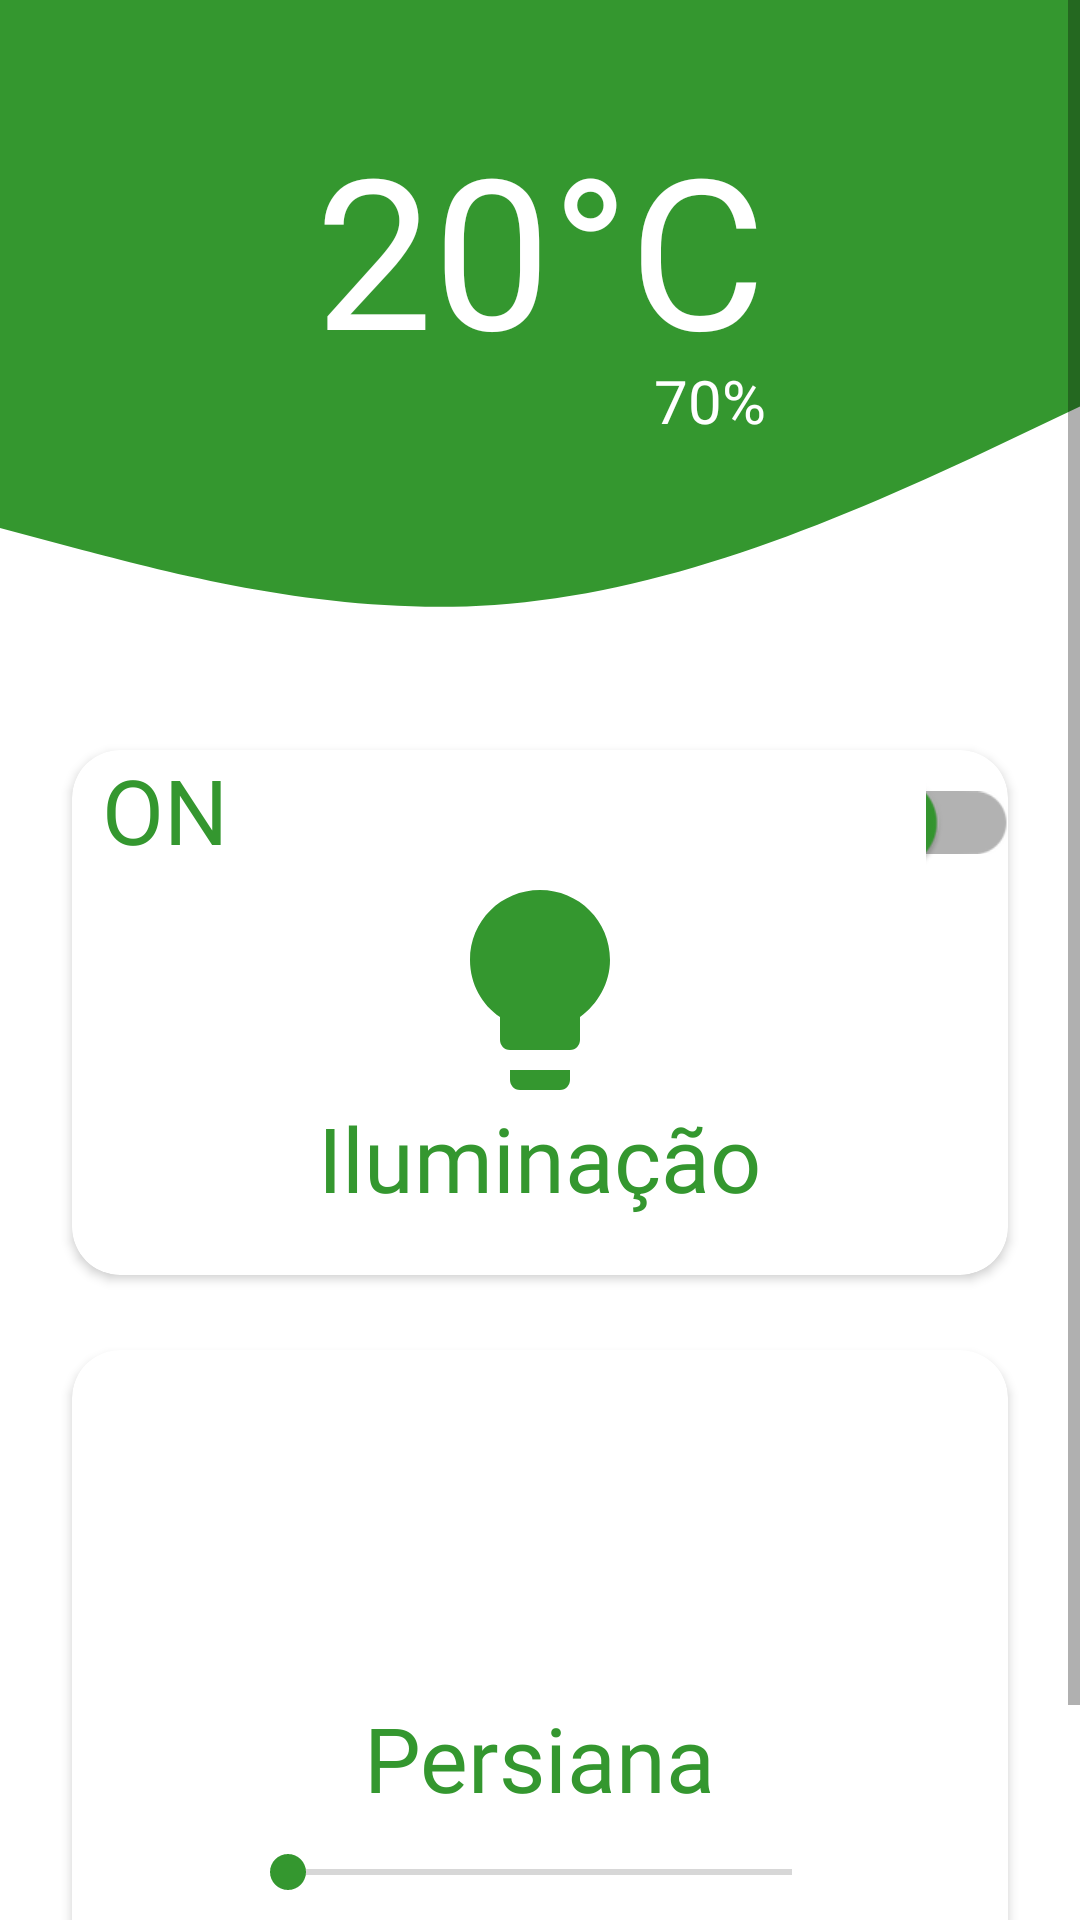

Screen size 1080×1920. Icon name, then its center in pixels as [x,y]:
lightbulb: [540,990]
